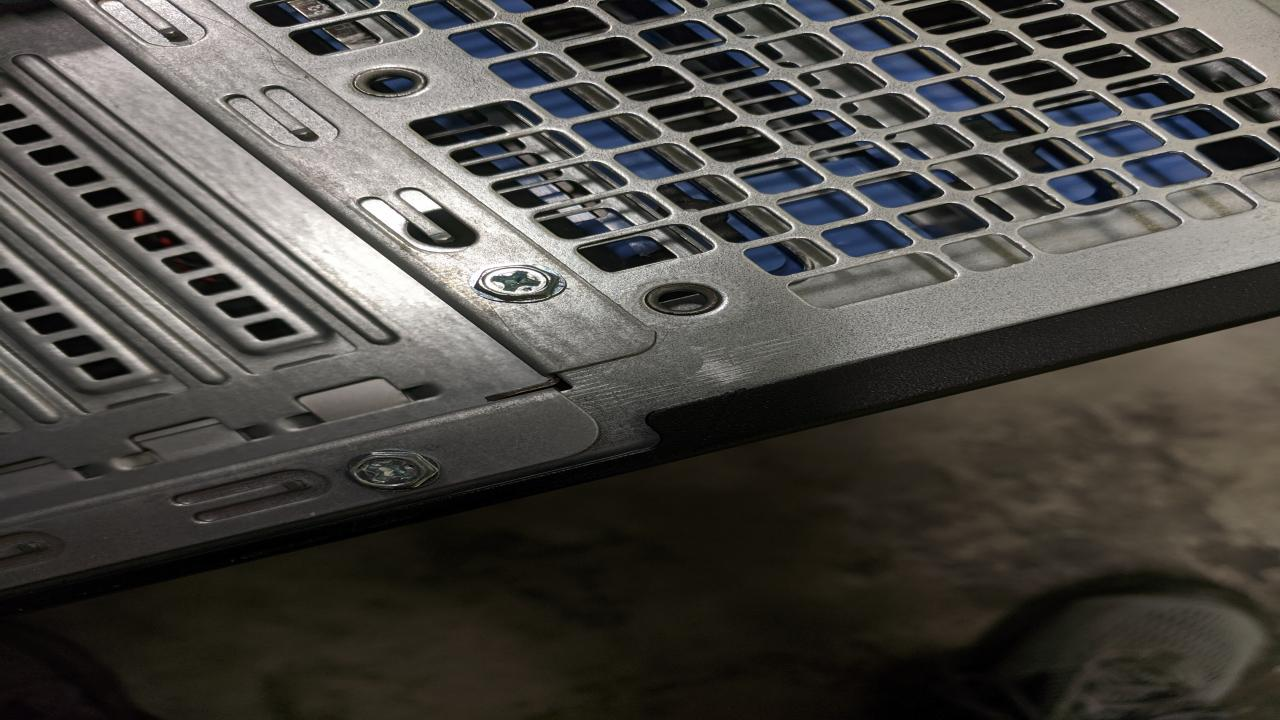CRS: (346, 449, 428, 489), (479, 264, 557, 302)
